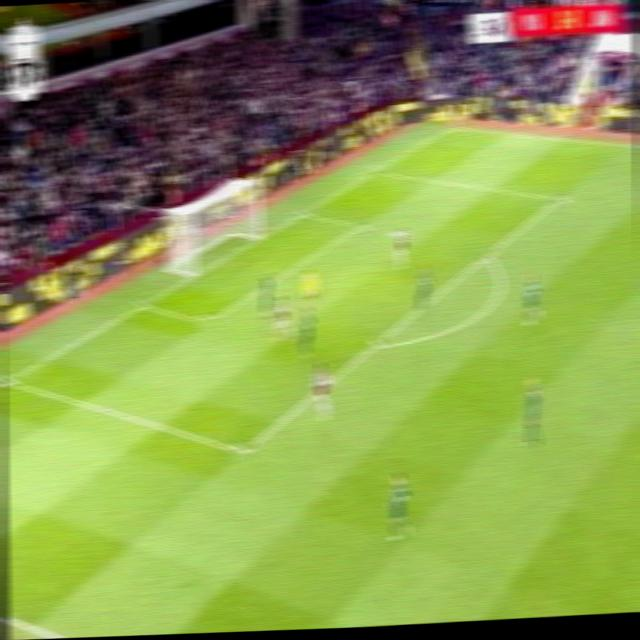bigarea_bottom_inner: (232, 437, 255, 463)
bigarea_bottom_outter: (0, 368, 18, 390)
bigarea_top_inner: (550, 186, 570, 208)
bigarea_top_outter: (366, 162, 384, 179)
bottom_arc_area_intersection: (365, 333, 385, 355)
corner: (442, 119, 462, 133)
smallarea_bottom_inner: (196, 308, 218, 332)
smallarea_bottom_outter: (132, 293, 154, 315)
smallarea_top_inner: (350, 215, 370, 234)
smallarea_top_outter: (294, 203, 312, 224)
top_arc_area_intersection: (476, 246, 496, 264)
